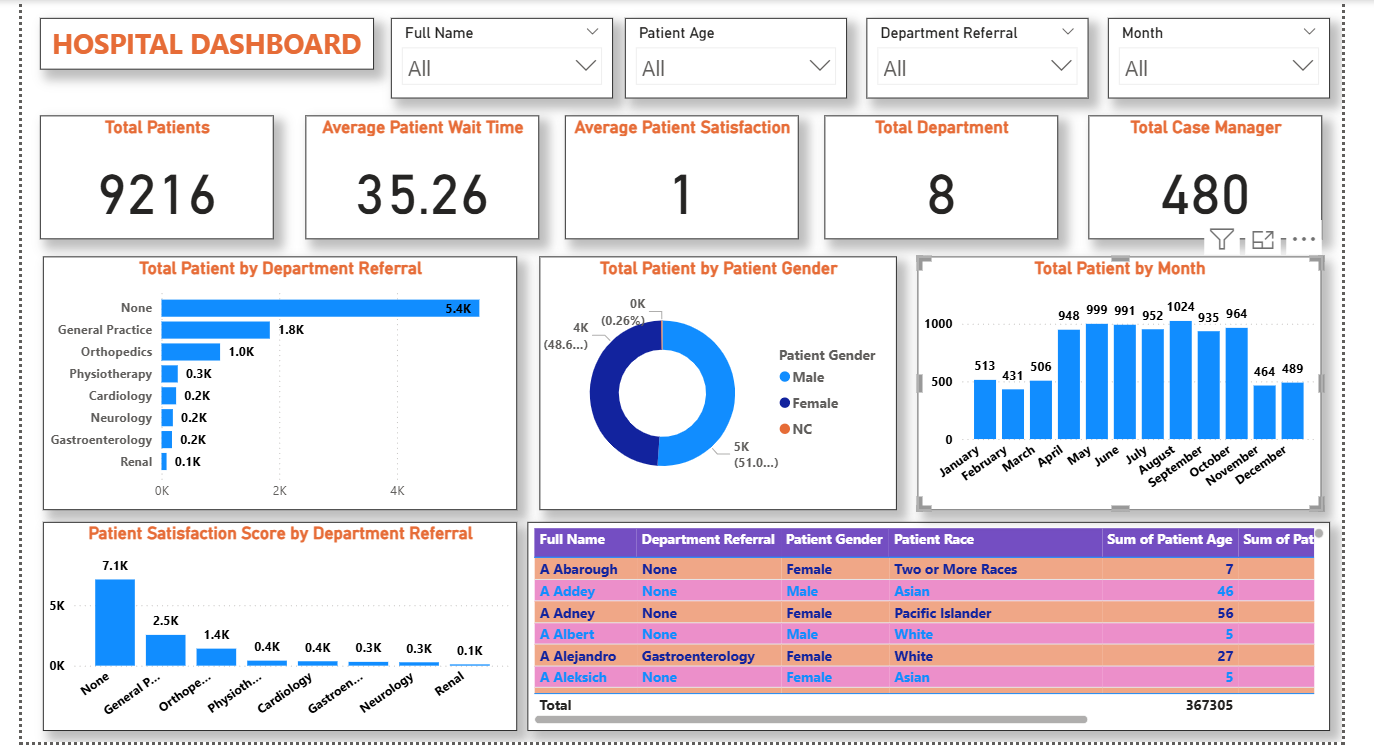

The dashboard page shown, as its layout file describes it:
{"tool":"powerbi","page":{"name":"Page 1","canvas":[1280,720],"ordinal":0},"visuals":[{"type":"textbox","box":[17.8,17.8,323.8,50.2],"z":0},{"type":"slicer","fields":{"Values":["Hospital ER_Data.Full Name"]},"box":[357.8,17.8,215.4,77.7],"z":1000},{"type":"slicer","fields":{"Values":["Hospital ER_Data.Patient Age"]},"box":[584.5,17.8,215.4,77.7],"z":2000},{"type":"slicer","fields":{"Values":["Hospital ER_Data.Department Referral"]},"box":[819.3,17.8,215.4,77.7],"z":3000},{"type":"slicer","fields":{"Values":["Hospital ER_Data.Date.Variation.Date Hierarchy.Month"]},"box":[1054.1,17.8,215.4,77.7],"z":4000},{"type":"card","title":"Total Patients","fields":{"Values":["Hospital ER_Data.Patient Id"]},"box":[17.8,111.7,226.7,119.8],"z":5000},{"type":"card","title":"Average Patient Wait Time","fields":{"Values":["Hospital ER_Data.Patient Waittime"]},"box":[275.3,111.7,226.7,119.8],"z":6000},{"type":"card","title":"Average Patient Satisfaction","fields":{"Values":["Hospital ER_Data.Patient Satisfaction Score"]},"box":[526.2,111.7,226.7,119.8],"z":7000},{"type":"card","title":"Total Department","fields":{"Values":["Hospital ER_Data.Department Referral"]},"box":[778.8,111.7,226.7,119.8],"z":8000},{"type":"card","title":"Total Case Manager","fields":{"Values":["Hospital ER_Data.Patients CM"]},"box":[1034.7,111.7,226.7,119.8],"z":9000},{"type":"barChart","fields":{"Category":["Hospital ER_Data.Department Referral"],"Y":["Hospital ER_Data.Total Patient"]},"box":[21,249.4,459.9,246.1],"z":10000},{"type":"donutChart","fields":{"Y":["Hospital ER_Data.Total Patient"],"Category":["Hospital ER_Data.Patient Gender"]},"box":[502,249.4,346.5,246.1],"z":11000},{"type":"columnChart","fields":{"Y":["Hospital ER_Data.Total Patient"],"Category":["Hospital ER_Data.Date.Variation.Date Hierarchy.Month"]},"box":[869.5,249.4,391.9,246.1],"z":12000},{"type":"columnChart","title":"Patient Satisfaction Score by Department Referral","fields":{"Y":["Hospital ER_Data.Patient Satisfaction Score"],"Category":["Hospital ER_Data.Department Referral"]},"box":[21,506.8,459.9,202.4],"z":13000},{"type":"tableEx","fields":{"Values":["Hospital ER_Data.Full Name","Hospital ER_Data.Department Referral","Hospital ER_Data.Patient Gender","Hospital ER_Data.Patient Race","Hospital ER_Data.Patient Age","Hospital ER_Data.Patient Waittime","Hospital ER_Data.Patient Satisfaction Score"]},"box":[490.6,506.8,778.8,202.4],"z":14000}]}

Visuals, with their boxes in screenshot pixels (x1, y1, x2, y2), scaled from the page's 1280x720 canvas onto the 1374x753 screenshot:
textbox: {"left": 19, "top": 19, "right": 367, "bottom": 71}
slicer - Hospital ER_Data.Full Name: {"left": 384, "top": 19, "right": 615, "bottom": 100}
slicer - Hospital ER_Data.Patient Age: {"left": 627, "top": 19, "right": 859, "bottom": 100}
slicer - Hospital ER_Data.Department Referral: {"left": 879, "top": 19, "right": 1111, "bottom": 100}
slicer - Hospital ER_Data.Date.Variation.Date Hierarchy.Month: {"left": 1132, "top": 19, "right": 1363, "bottom": 100}
"Total Patients" card: {"left": 19, "top": 117, "right": 262, "bottom": 242}
"Average Patient Wait Time" card: {"left": 296, "top": 117, "right": 539, "bottom": 242}
"Average Patient Satisfaction" card: {"left": 565, "top": 117, "right": 808, "bottom": 242}
"Total Department" card: {"left": 836, "top": 117, "right": 1079, "bottom": 242}
"Total Case Manager" card: {"left": 1111, "top": 117, "right": 1354, "bottom": 242}
barChart - Hospital ER_Data.Department Referral x Hospital ER_Data.Total Patient: {"left": 23, "top": 261, "right": 516, "bottom": 518}
donutChart - Hospital ER_Data.Total Patient x Hospital ER_Data.Patient Gender: {"left": 539, "top": 261, "right": 911, "bottom": 518}
columnChart - Hospital ER_Data.Total Patient x Hospital ER_Data.Date.Variation.Date Hierarchy.Month: {"left": 933, "top": 261, "right": 1354, "bottom": 518}
"Patient Satisfaction Score by Department Referral" columnChart: {"left": 23, "top": 530, "right": 516, "bottom": 742}
tableEx - Hospital ER_Data.Full Name x Hospital ER_Data.Department Referral: {"left": 527, "top": 530, "right": 1363, "bottom": 742}
